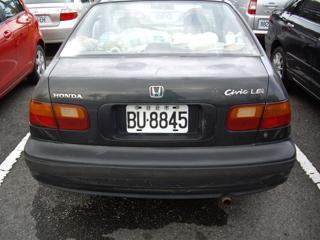plate: (124, 103, 190, 135)
